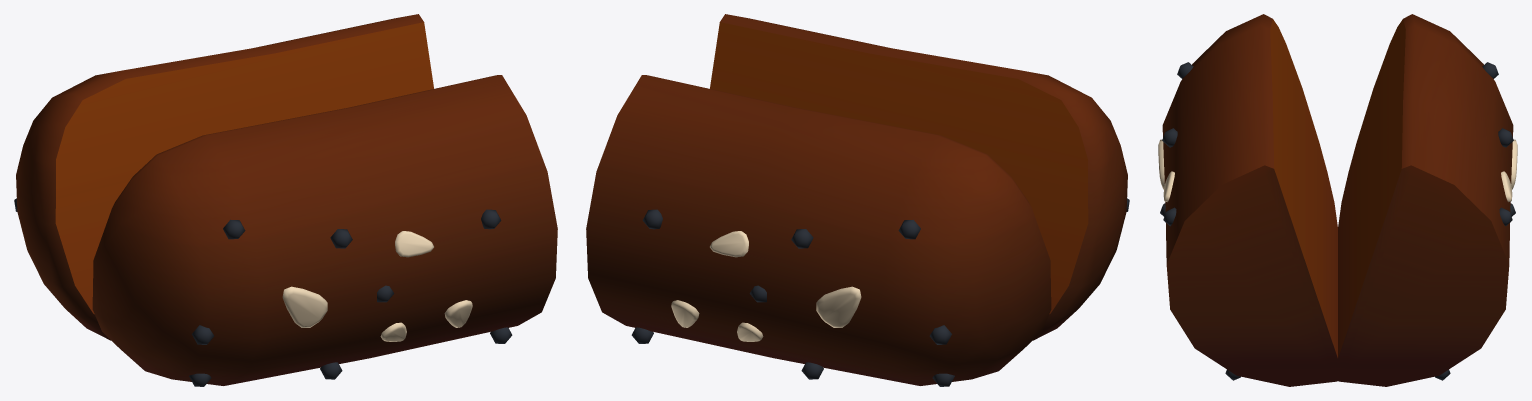
File: HotDog_bun_with_seeds_half.005.fbx
The picture shows the model from 3 angles, left to right: view 1: azimuth 30°, elevation 25°; view 2: azimuth 150°, elevation 25°; view 3: azimuth 270°, elevation 25°; orthographic projection. The views are drawn at different scales.
Visible parts, largest first — view 1: HotDog_bun_with_seeds_half.005; view 2: HotDog_bun_with_seeds_half.005; view 3: HotDog_bun_with_seeds_half.005.
Part boxes in pixels (left/top/right/bottom): HotDog_bun_with_seeds_half.005: left=14, top=14, right=557, bottom=386; HotDog_bun_with_seeds_half.005: left=586, top=14, right=1129, bottom=386; HotDog_bun_with_seeds_half.005: left=1158, top=14, right=1517, bottom=386.
Size of the model in its own units: 76.52 by 69.2 by 49.72.
